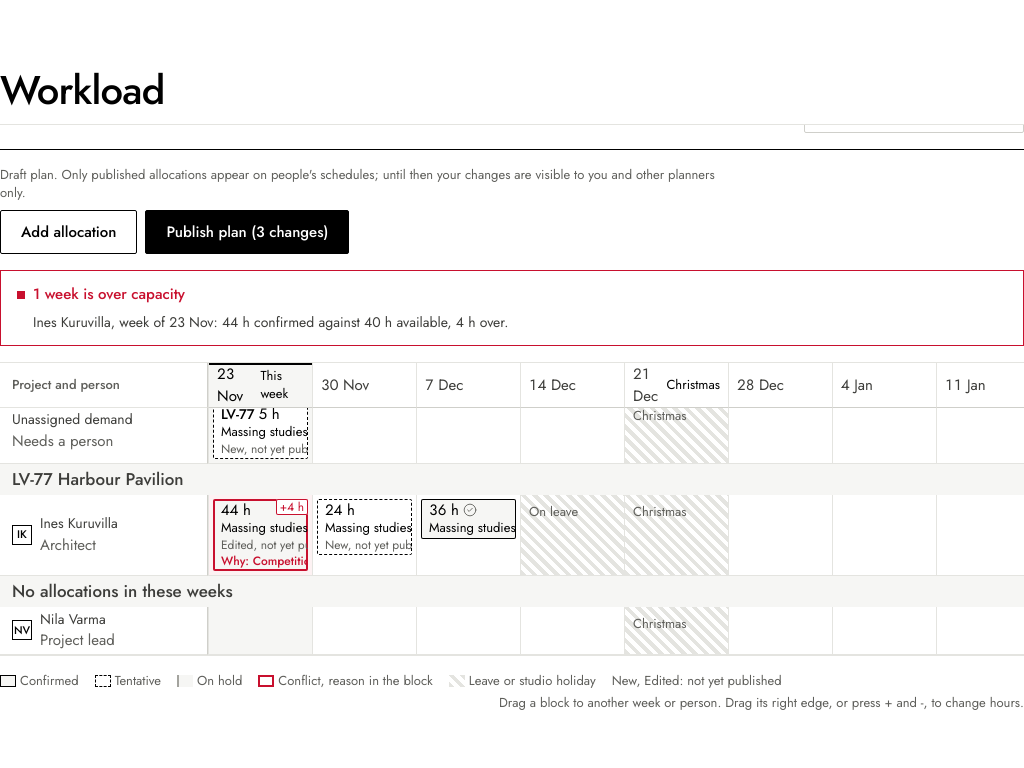
Test: Workload planner in live mode › publishes the plan after a confirmation
The image size is (1024, 768).
Expected: the table named "Resource planner" is shown, [0,362,1023,656]
Click the button "Publish plan (3 changes)".
click(247, 232)  # box [145,210,349,254]
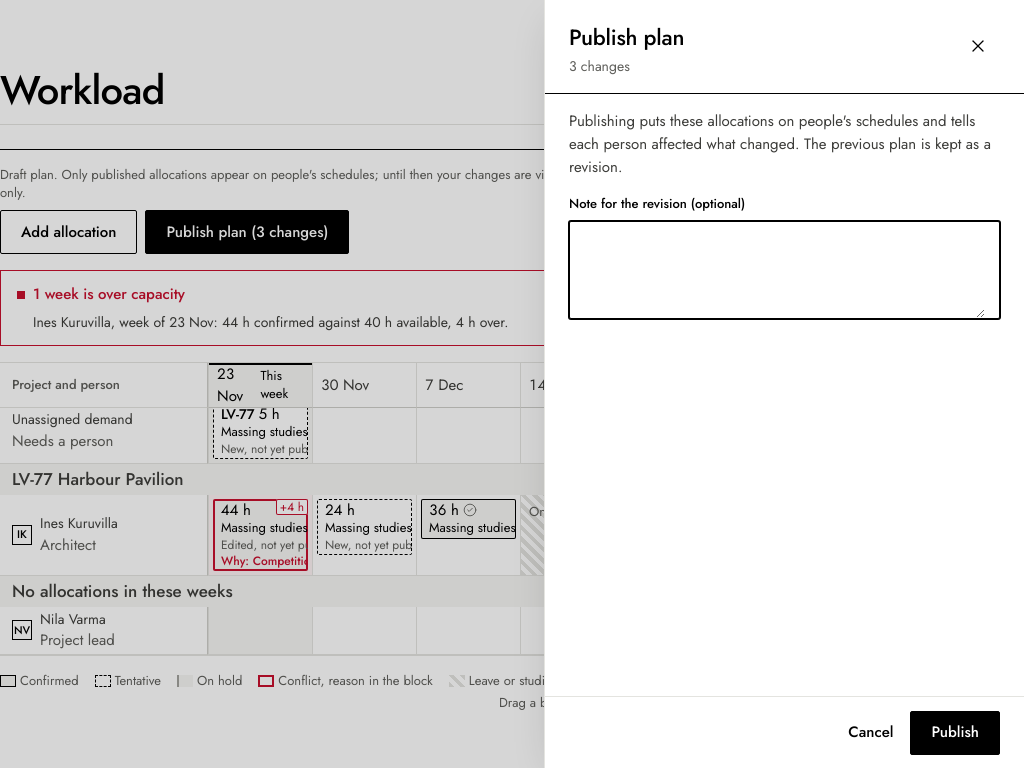
Click the button "Publish".
click(955, 732)  # box [910,710,1000,754]
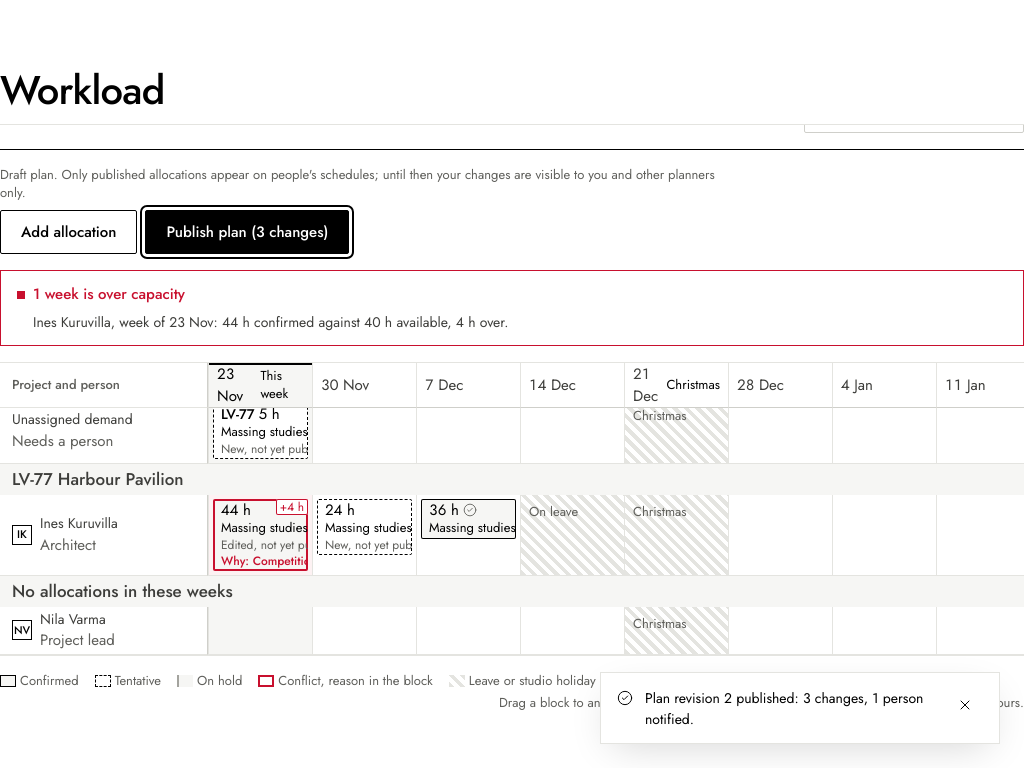
Expected: the text "Plan revision 2 published: 3 changes, 1 person notified." is shown, [645,687,935,729]
